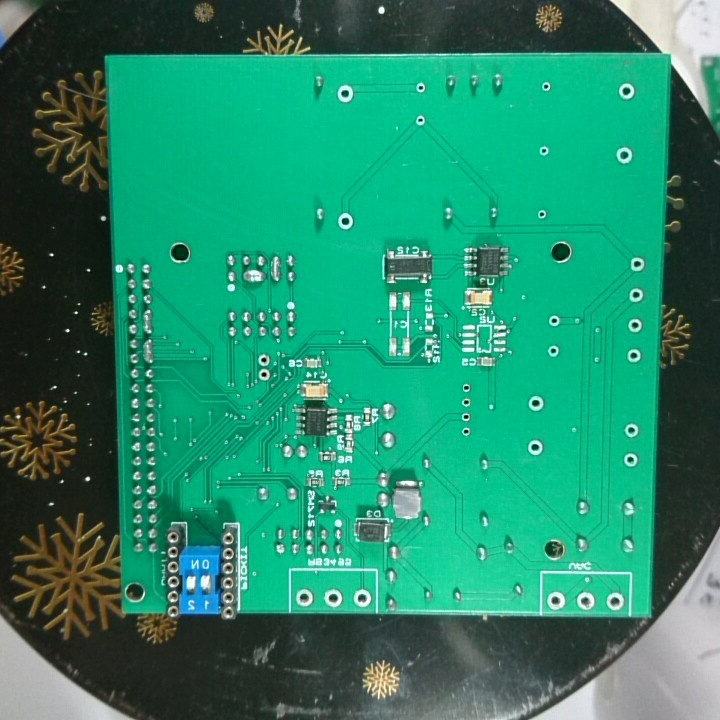F: (574, 589, 597, 614), (322, 586, 345, 610), (351, 586, 373, 611), (545, 589, 568, 612), (335, 82, 357, 104), (614, 145, 636, 167), (334, 209, 355, 231), (525, 393, 547, 414), (605, 590, 625, 612), (617, 80, 636, 103), (294, 587, 314, 608), (626, 286, 646, 306), (525, 438, 545, 458), (626, 315, 645, 336), (622, 422, 641, 441), (412, 79, 430, 98), (622, 450, 640, 469), (629, 255, 646, 275), (625, 346, 642, 366), (255, 367, 272, 384), (545, 342, 561, 360), (255, 352, 274, 367), (546, 313, 563, 329), (539, 78, 553, 97), (413, 112, 428, 129), (537, 142, 552, 159), (459, 424, 474, 441), (459, 380, 474, 395), (459, 409, 474, 424), (460, 395, 474, 409), (535, 206, 548, 221)
P: (139, 335, 157, 366), (139, 305, 157, 335), (268, 252, 282, 286), (240, 269, 266, 285)
